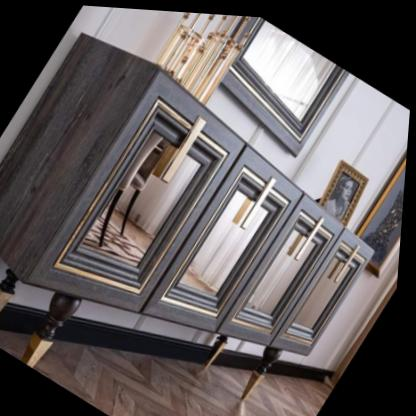Sideboard: (0, 33, 378, 399)
